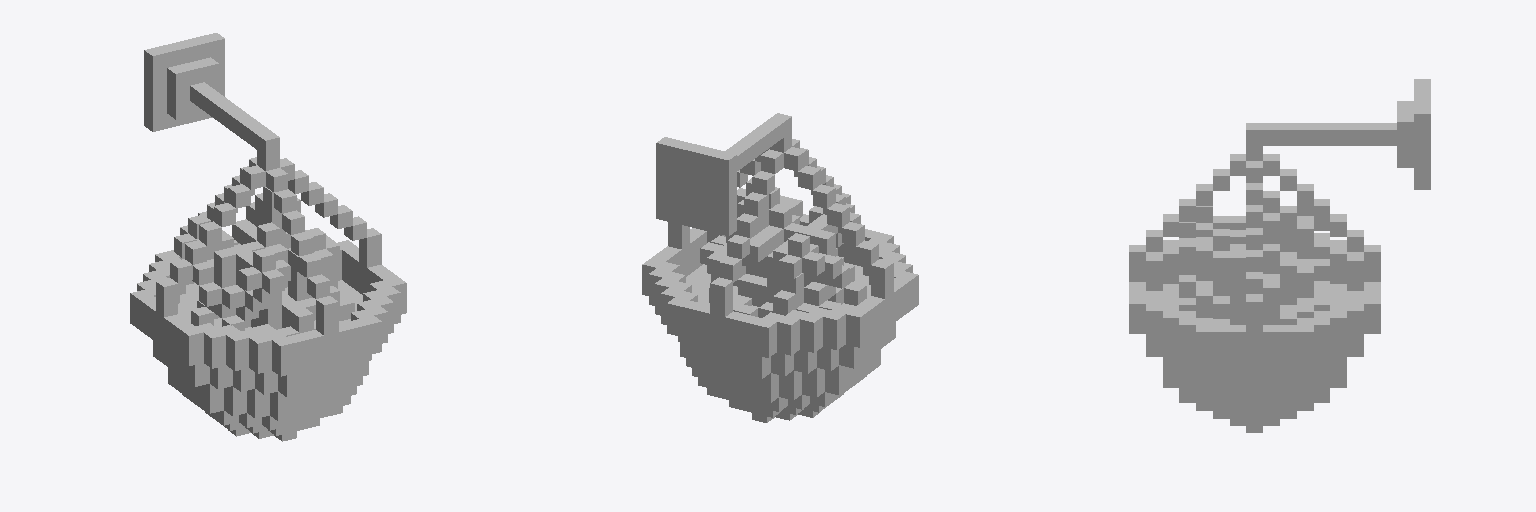
File: Hanging Basket 5 - Red Flowers.obj
3 views of the same model, side by side, from view 1: azimuth 30°, elevation 25°; view 2: azimuth 150°, elevation 25°; view 3: azimuth 270°, elevation 25° (orthographic).
Parts seen in each view (by area): view 1: Hanging Basket 5 - Red Flowers; view 2: Hanging Basket 5 - Red Flowers; view 3: Hanging Basket 5 - Red Flowers.
Part boxes in pixels (left/top/right/bottom): Hanging Basket 5 - Red Flowers: left=130, top=33, right=406, bottom=441; Hanging Basket 5 - Red Flowers: left=642, top=113, right=918, bottom=422; Hanging Basket 5 - Red Flowers: left=1129, top=79, right=1430, bottom=432.
Size of the model in its own units: 15 by 21 by 18.